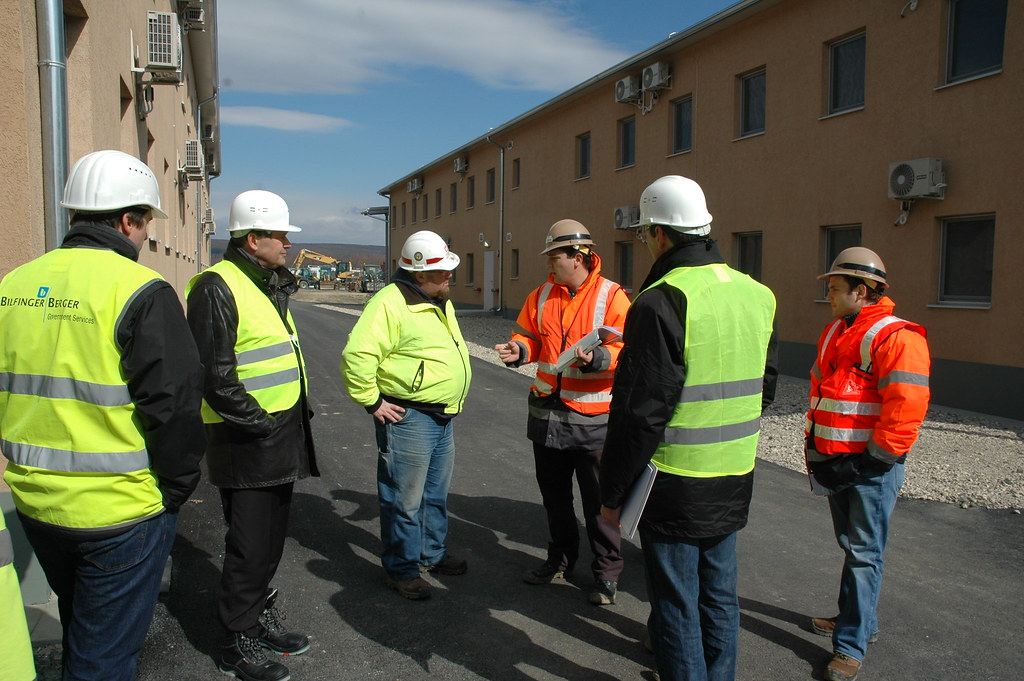Hard Hat: (58, 153, 170, 260), (625, 178, 716, 259), (226, 193, 302, 270), (817, 248, 888, 319), (394, 233, 462, 302), (538, 222, 596, 287)
Person: (2, 152, 204, 679), (602, 178, 782, 681), (185, 192, 313, 681), (812, 247, 932, 680), (341, 233, 472, 604), (494, 221, 620, 605)
Vest: (10, 208, 173, 523), (630, 228, 767, 477), (808, 277, 927, 463), (200, 233, 310, 425), (498, 253, 624, 417)
